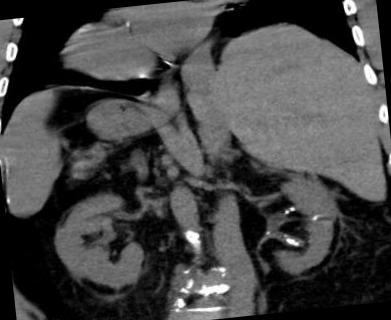Tas_Var: (305, 212, 321, 224), (282, 236, 294, 244), (292, 240, 302, 248), (281, 209, 289, 215), (288, 206, 295, 212), (263, 230, 270, 235)
